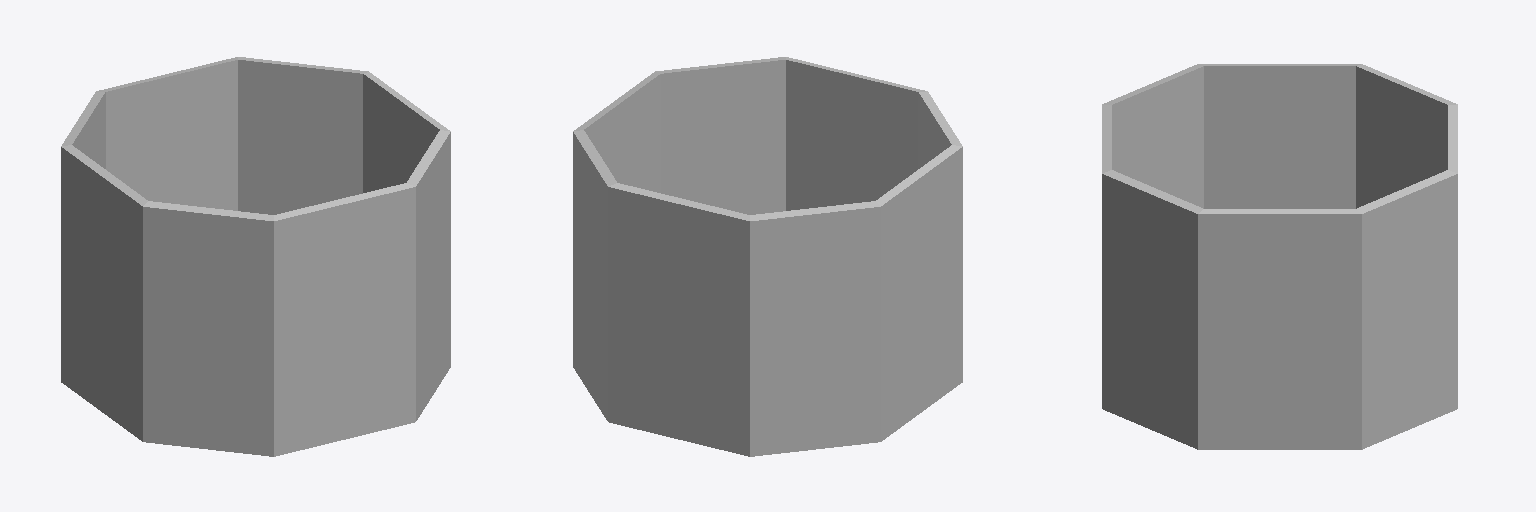
The model's file is walls.obj.
3 views of the same model, side by side, from view 1: azimuth 30°, elevation 25°; view 2: azimuth 150°, elevation 25°; view 3: azimuth 270°, elevation 25° (orthographic).
Parts seen in each view (by area): view 1: walls, floor.000; view 2: walls, floor.000; view 3: walls, floor.000.
Boxes of the visible parts, x1,y1,x2,y2 form: walls: [61, 57, 450, 419]; floor.000: [61, 331, 450, 456]; walls: [573, 57, 962, 419]; floor.000: [573, 331, 962, 456]; walls: [1102, 64, 1457, 412]; floor.000: [1102, 372, 1457, 449].
Size of the model in its own units: 32.5 by 23.92 by 32.5.